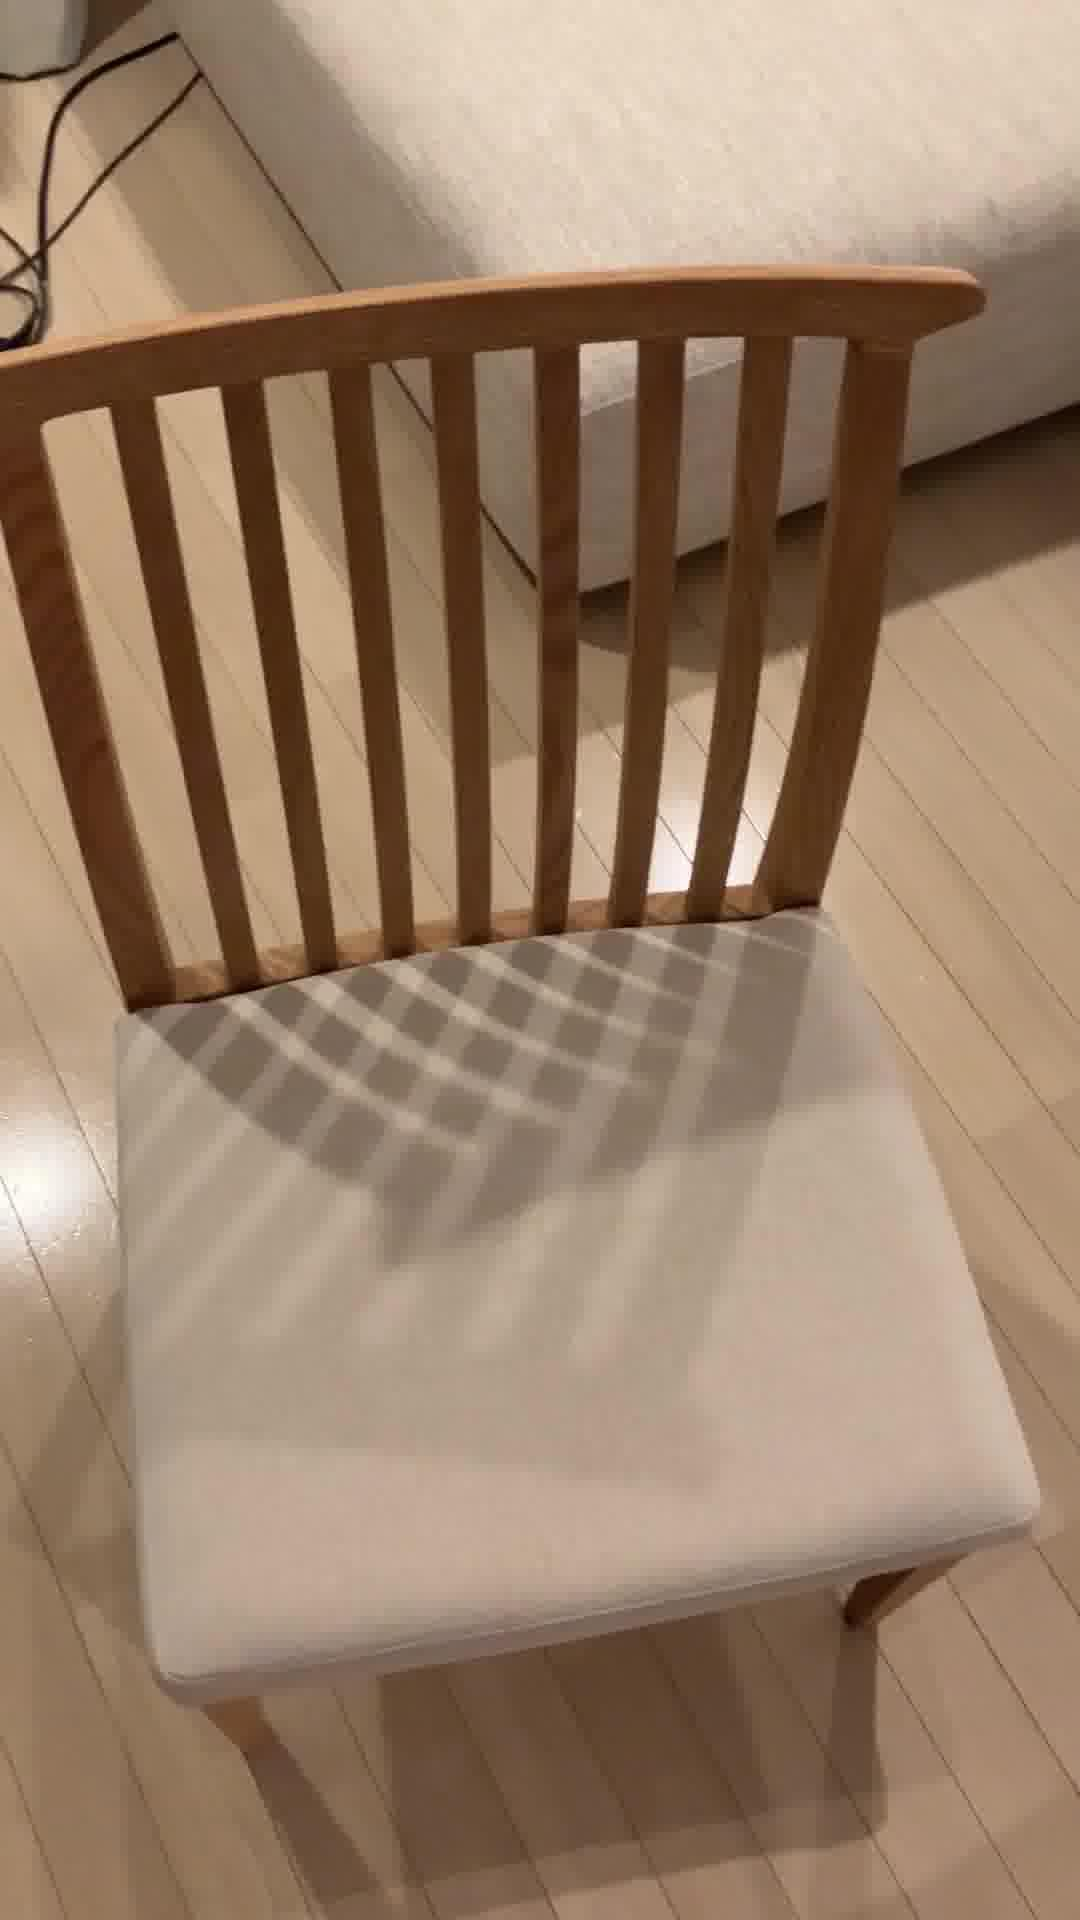takumikan-chair: (0, 256, 1080, 1760)
